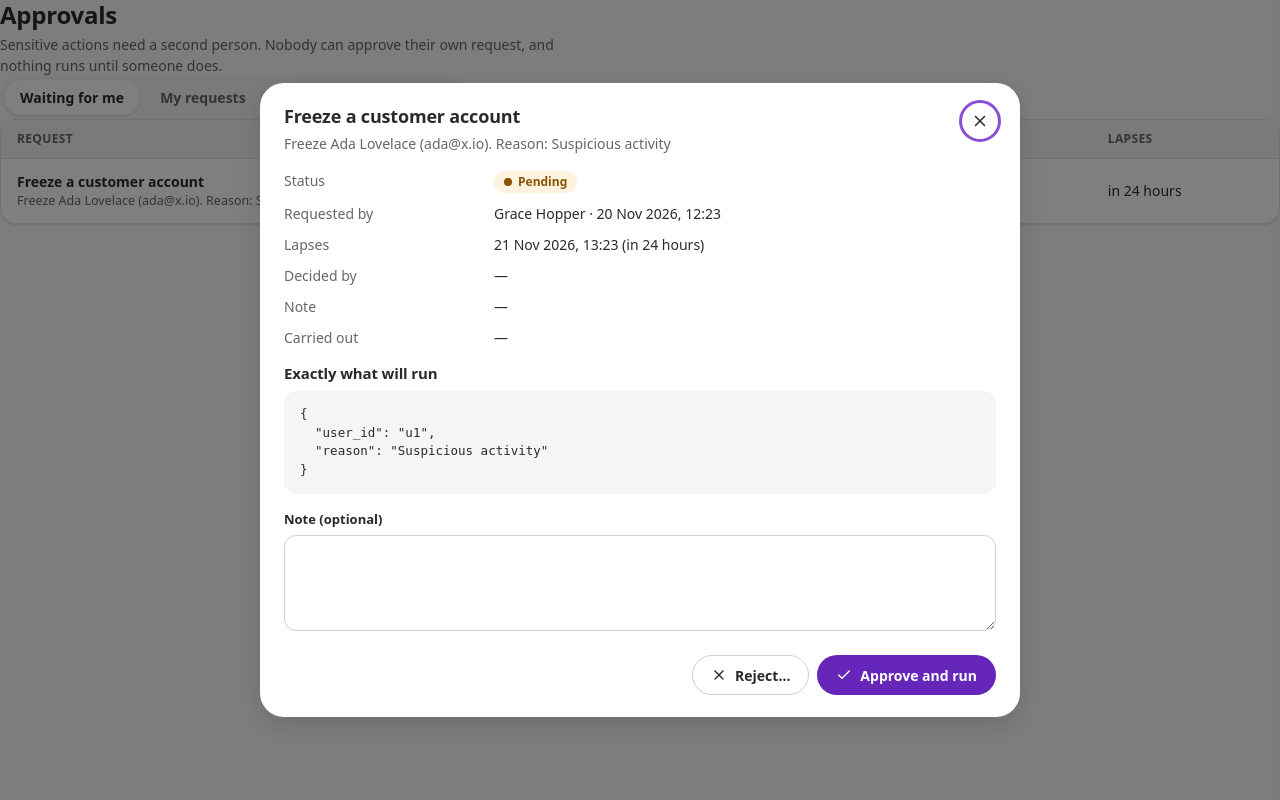
approvals › will not reject without a reason
Click the button "Reject…": [751, 675] box [692,655,809,695]
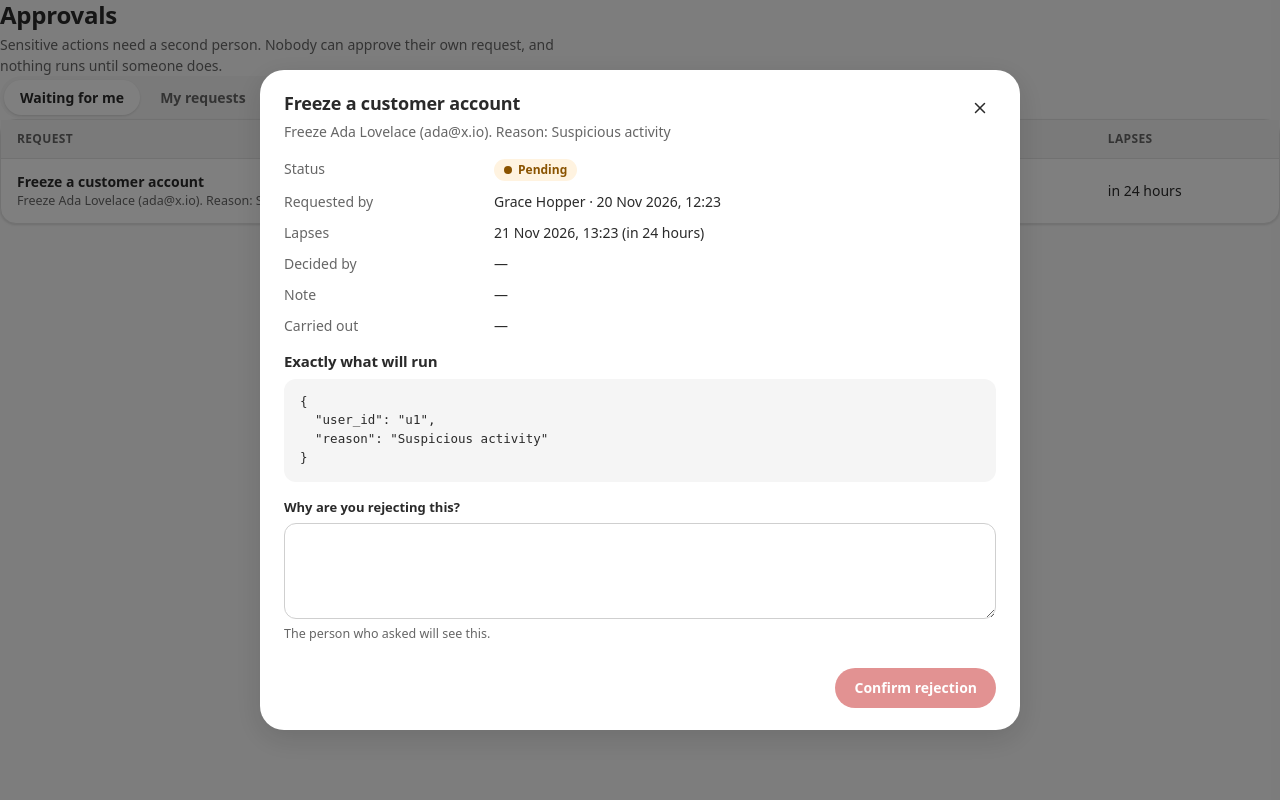
Expected: the button "Confirm rejection" is disabled, [836,668,996,708]
In the text box labelled "Why are you rejecting this?": [640, 571] box [284,523,996,619], type "Not enough evidence"
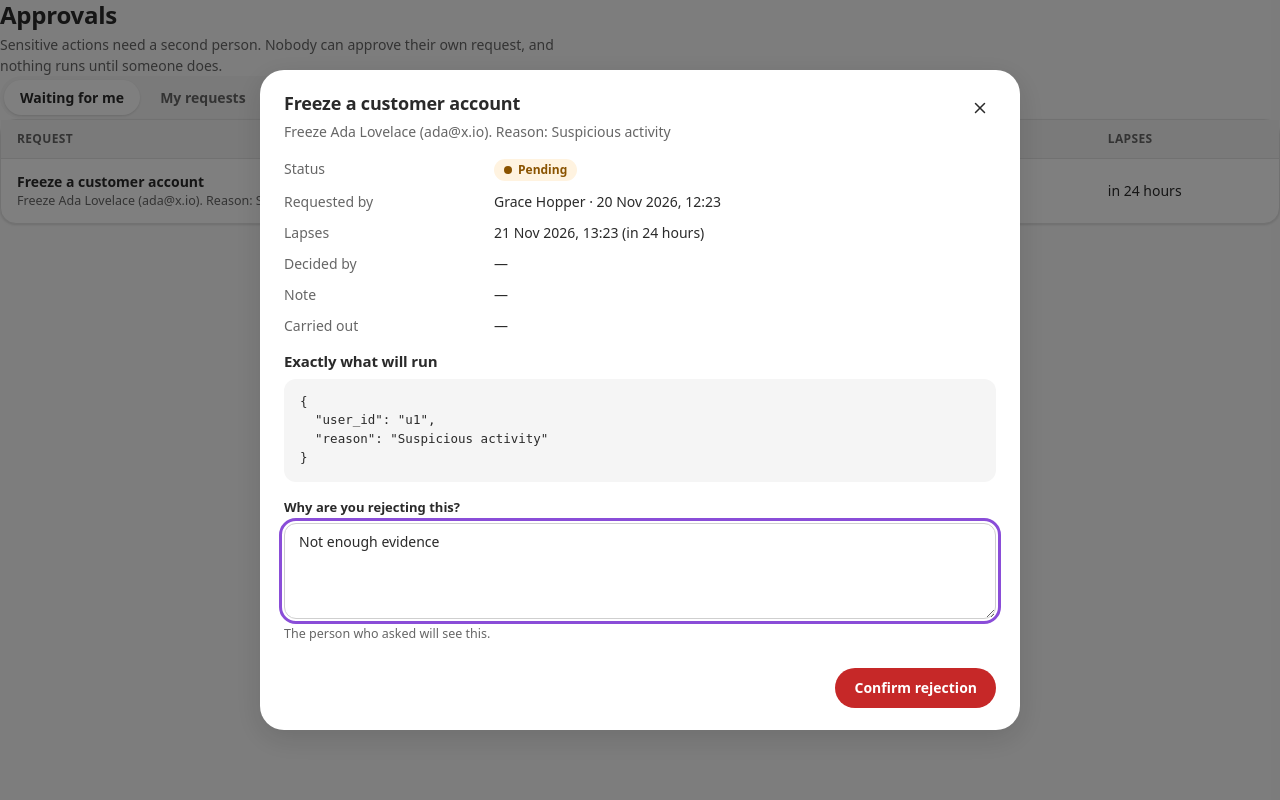
Expected: the button "Confirm rejection" is enabled, [836,668,996,708]
